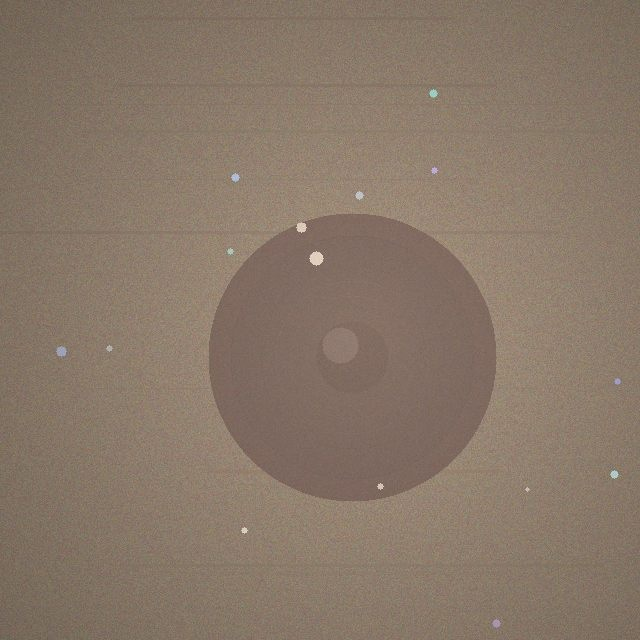overburn: (208, 213, 496, 501)
